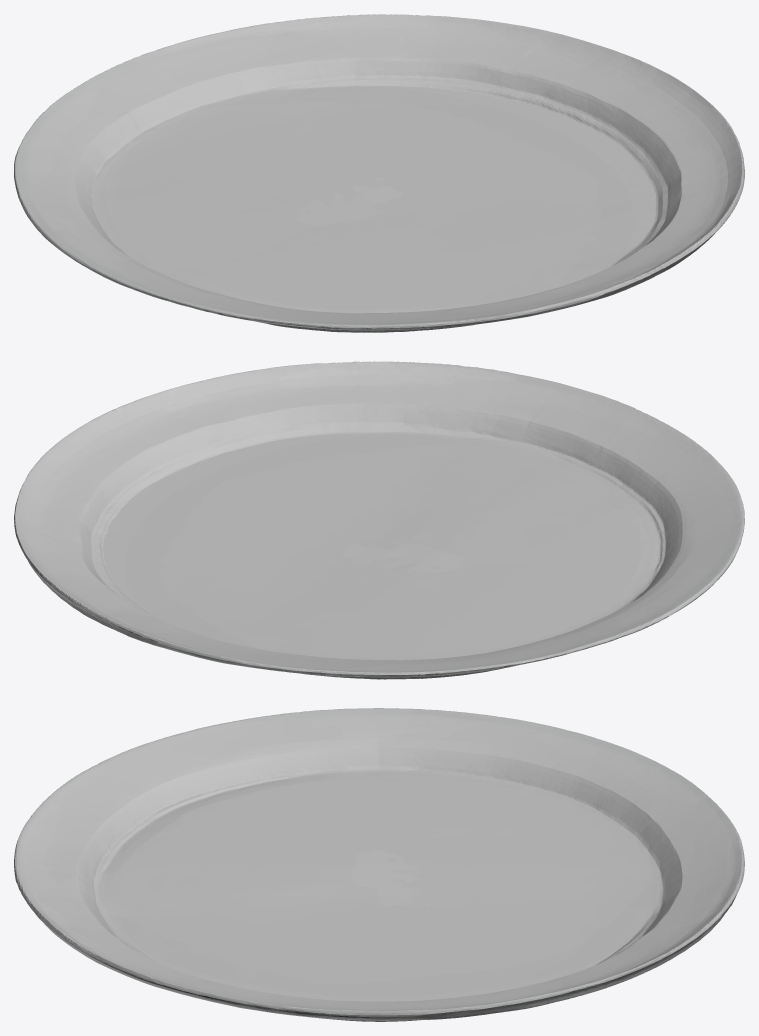
3 views of the same model, one above another, from view 1: azimuth 30°, elevation 25°; view 2: azimuth 150°, elevation 25°; view 3: azimuth 270°, elevation 25° (orthographic).
Visible parts, largest first — view 1: plate.obj; view 2: plate.obj; view 3: plate.obj.
Part boxes in pixels (x1,y1,x2,y2): plate.obj: [14, 14, 744, 332]; plate.obj: [14, 361, 744, 679]; plate.obj: [14, 708, 744, 1021].
Size of the model in its own units: 0.32 by 0.0222 by 0.3196.
Materials: 1 (1 with a texture image).
